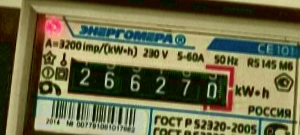0: (202, 78, 218, 99)
2: (152, 73, 167, 94), (76, 64, 90, 86)
6: (100, 67, 114, 89), (126, 71, 141, 91)
7: (178, 76, 190, 95)
screen: (53, 45, 240, 117)
